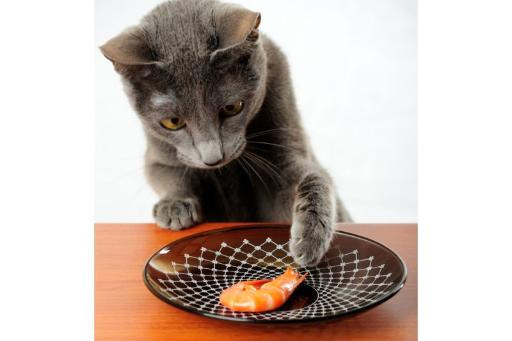cat_eating: (100, 0, 407, 323)
